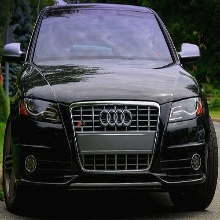no damage: (2, 4, 218, 210)
